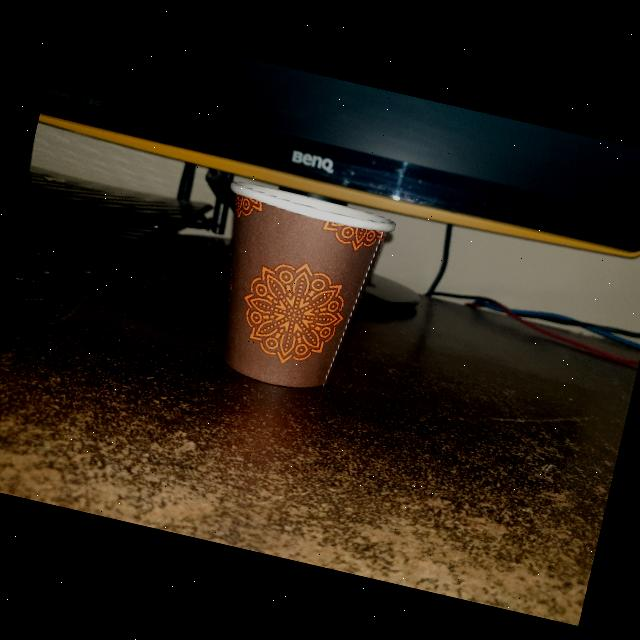trash: (184, 166, 404, 412)
